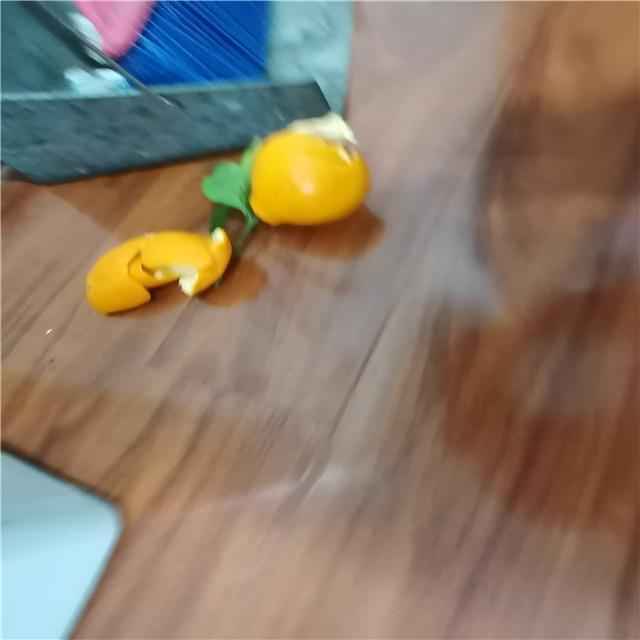orange peel: (59, 210, 248, 348), (203, 112, 393, 248)
